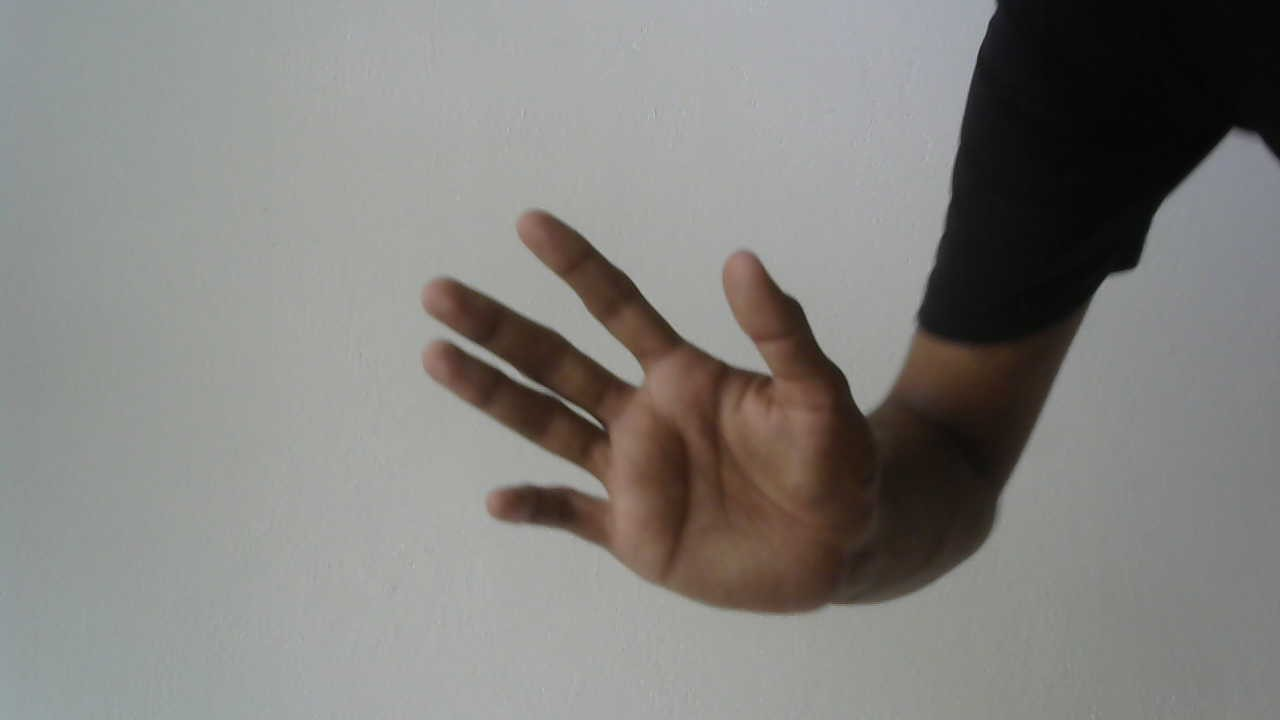hello: (409, 197, 880, 624)
